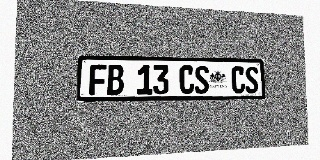1: (137, 65, 153, 95)
3: (153, 65, 169, 94)
B: (107, 64, 124, 95)
C: (179, 65, 194, 94), (231, 66, 245, 94)
F: (89, 64, 107, 95)
S: (194, 66, 209, 94), (245, 66, 259, 93)
